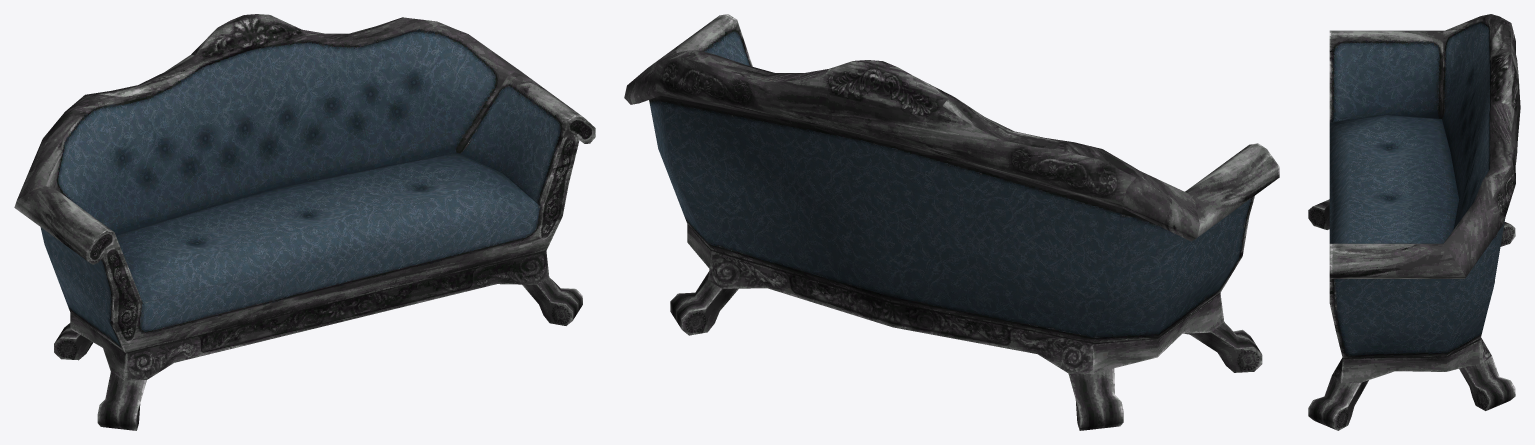
File: sofa_alt_white.dae
3 renders of one model, left to right at view 1: azimuth 30°, elevation 25°; view 2: azimuth 150°, elevation 25°; view 3: azimuth 270°, elevation 25°, orthographic. The views are drawn at different scales.
Parts seen in each view (by area): view 1: polySurface2; view 2: polySurface2; view 3: polySurface2.
Boxes of the visible parts, left/top/right/bottom form: polySurface2: left=14, top=14, right=595, bottom=430; polySurface2: left=624, top=14, right=1279, bottom=430; polySurface2: left=1308, top=14, right=1520, bottom=430.
Size of the model in its own units: 2.4 by 1.29 by 0.9348.
Materials: 1 (1 with a texture image).
